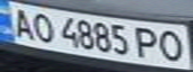4: (54, 15, 78, 47)
5: (109, 21, 133, 56)
8: (90, 19, 112, 54), (75, 17, 93, 51)
A: (6, 6, 39, 39)
O: (154, 28, 190, 63), (27, 11, 57, 44)
P: (133, 25, 163, 60)
